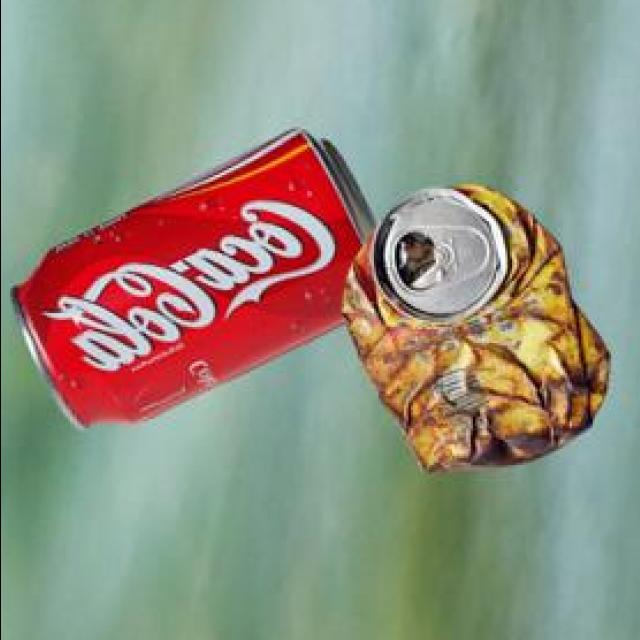logam: (15, 132, 381, 432), (344, 190, 611, 475)
